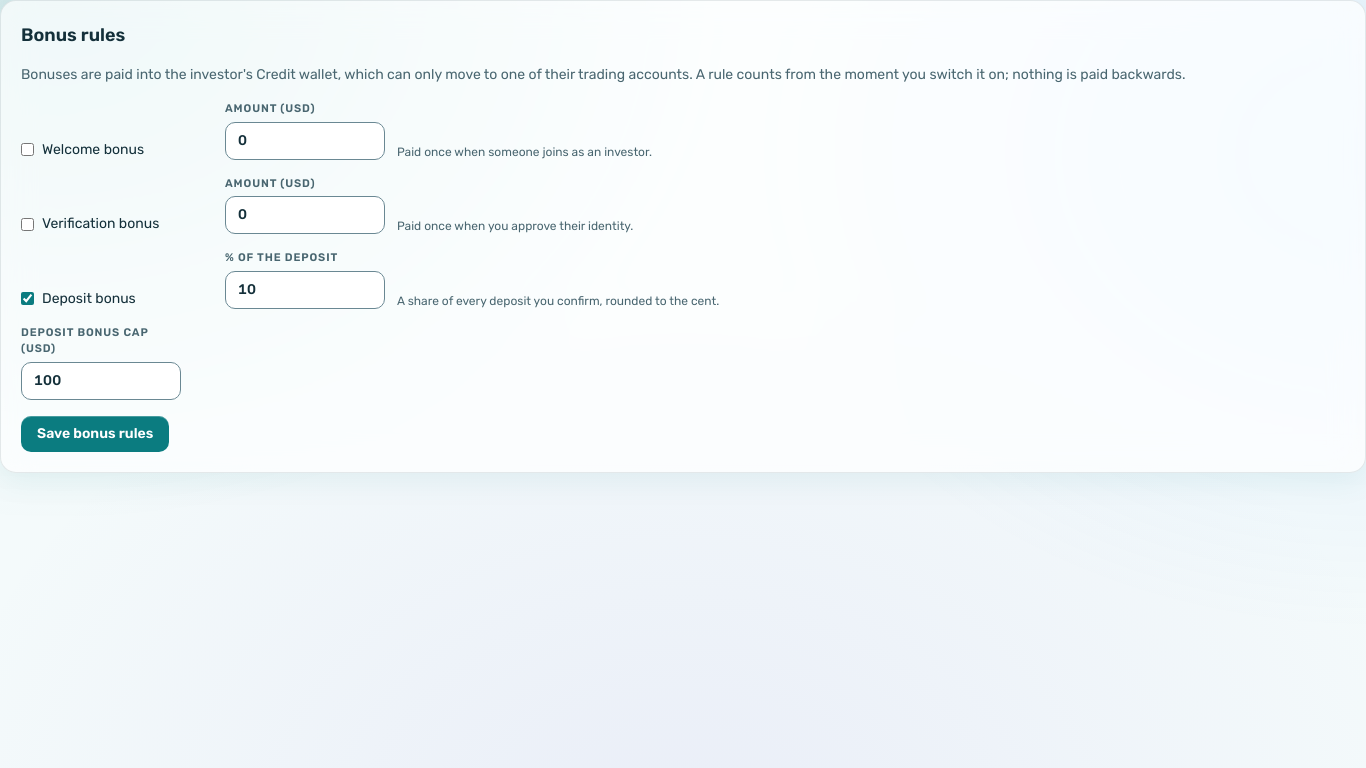
the server's refusal shows inside the card
Click the checkbox named "Welcome bonus on" at (28, 150), box [21,143,34,156]
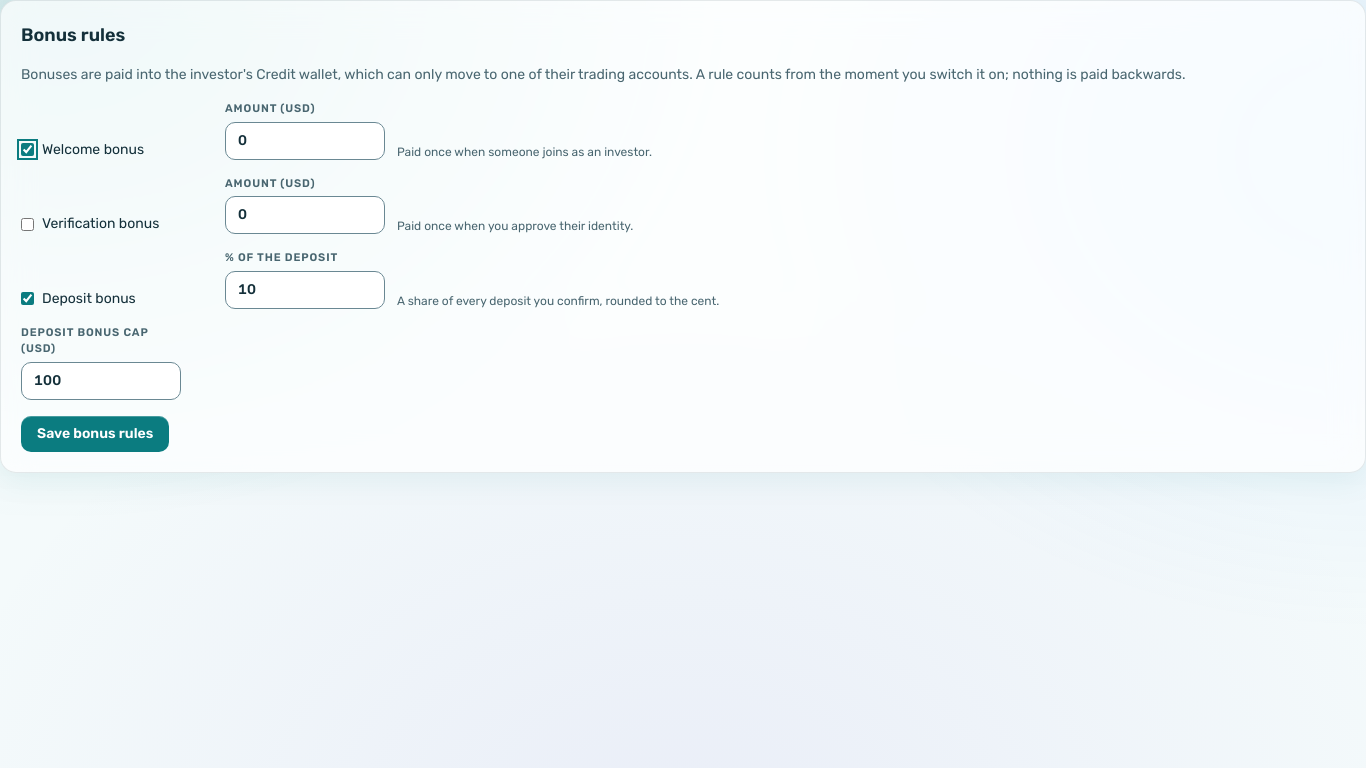
Click the button "Save bonus rules" at (95, 434), box [21,416,169,452]
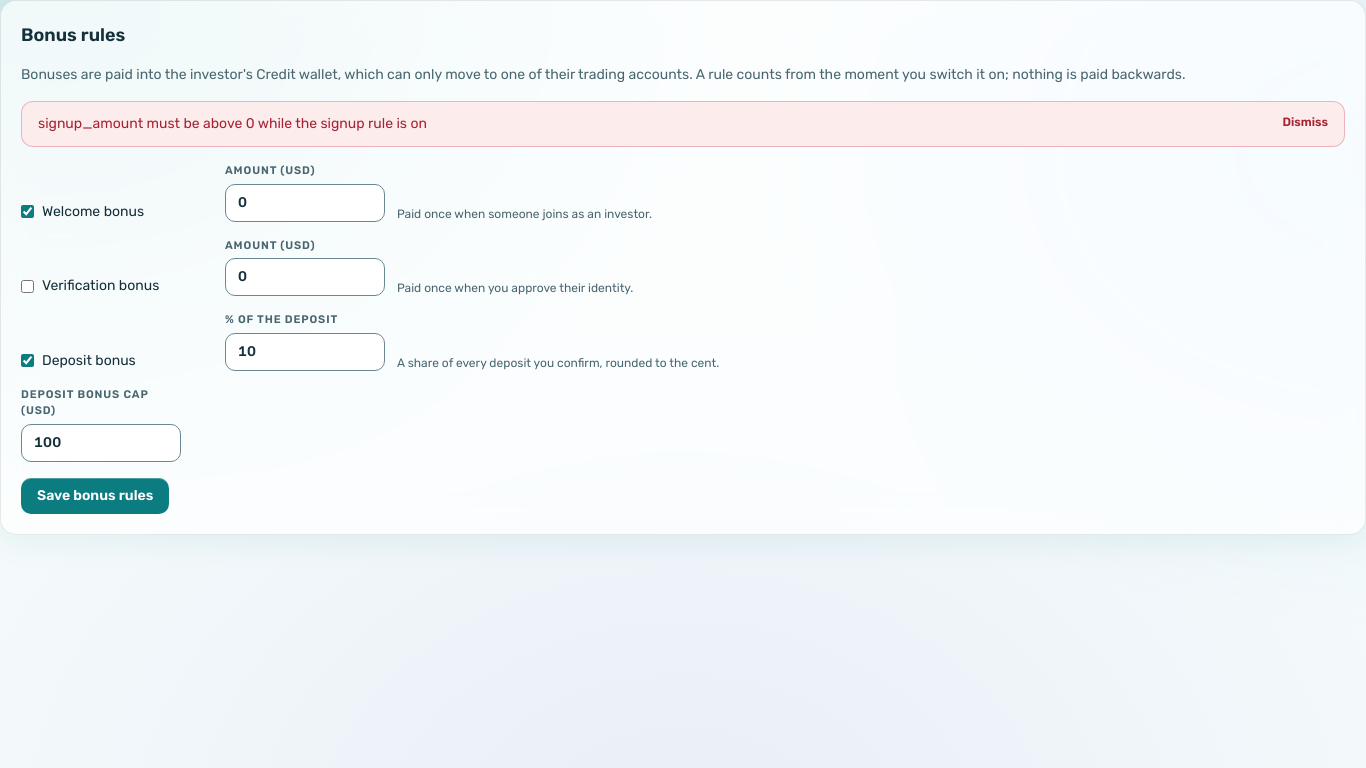
Expected: the text "signup_amount must be above 0 while the signup rule is on" is shown, [38,114,427,134]
